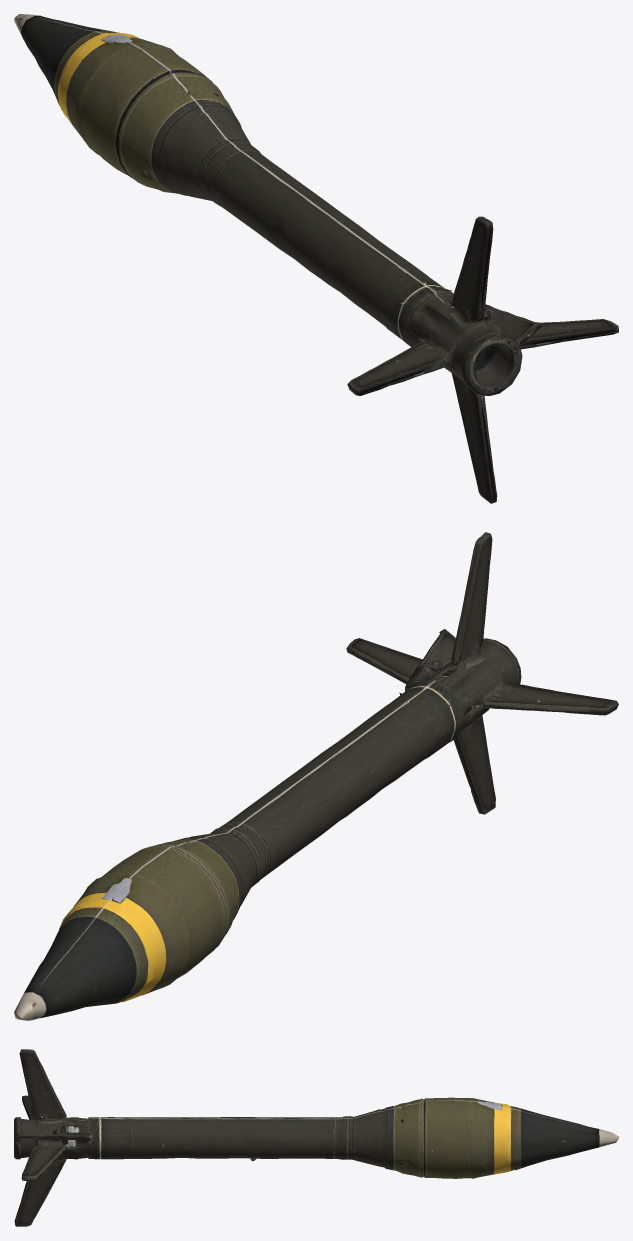
File: rocket.glb
3 views of the same model, one above another, from view 1: azimuth 30°, elevation 25°; view 2: azimuth 150°, elevation 25°; view 3: azimuth 270°, elevation 25° (orthographic). The views are drawn at different scales.
Visible parts, largest first — view 1: tripo_node_6137efb0-1def-47f9-944e-76714992ffce; view 2: tripo_node_6137efb0-1def-47f9-944e-76714992ffce; view 3: tripo_node_6137efb0-1def-47f9-944e-76714992ffce.
Part boxes in pixels (bbox=[...]): tripo_node_6137efb0-1def-47f9-944e-76714992ffce: bbox=[14, 14, 618, 503]; tripo_node_6137efb0-1def-47f9-944e-76714992ffce: bbox=[14, 532, 618, 1020]; tripo_node_6137efb0-1def-47f9-944e-76714992ffce: bbox=[14, 1049, 618, 1226].
Size of the model in its own units: 0.3131 by 0.3164 by 0.9795.
1 material, 1 textured.
